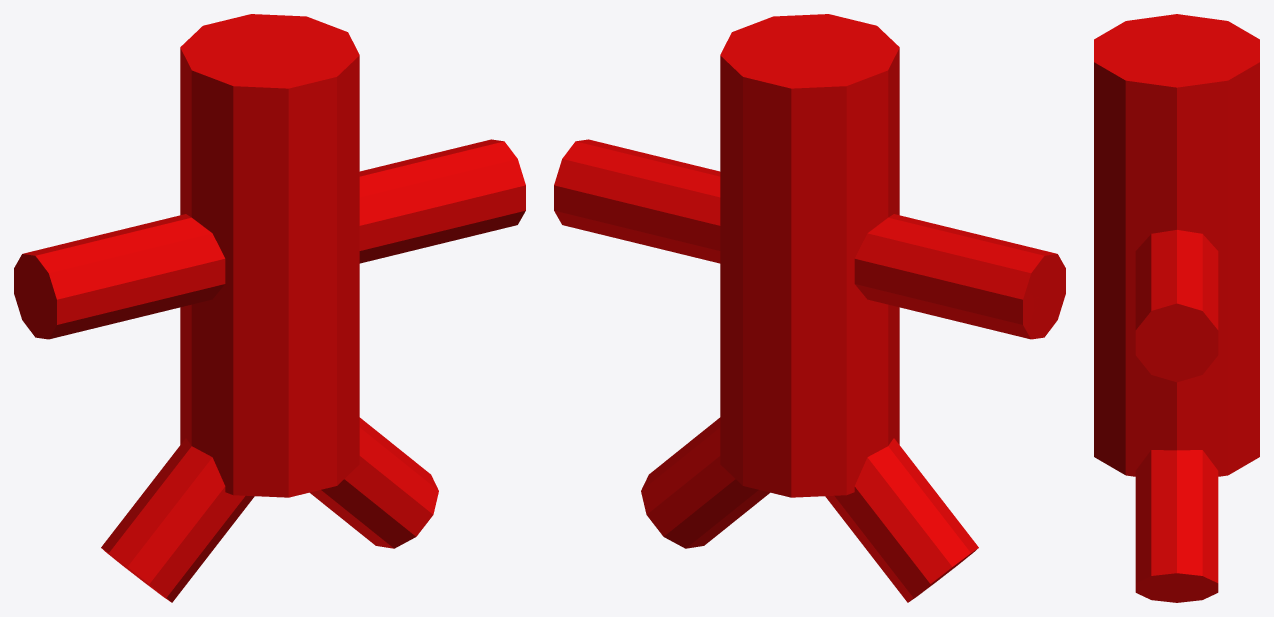
The model's file is Enemy.fbx.
The picture shows the model from 3 angles, left to right: view 1: azimuth 30°, elevation 25°; view 2: azimuth 150°, elevation 25°; view 3: azimuth 270°, elevation 25°; orthographic projection. The views are drawn at different scales.
Parts seen in each view (by area): view 1: pCylinder4; view 2: pCylinder4; view 3: pCylinder4.
Part boxes in pixels (x1=…): pCylinder4: x1=14, y1=14, x2=525, y2=602; pCylinder4: x1=554, y1=14, x2=1065, y2=602; pCylinder4: x1=1094, y1=14, x2=1259, y2=602.
Size of the model in its own units: 6 by 6.36 by 1.9.
